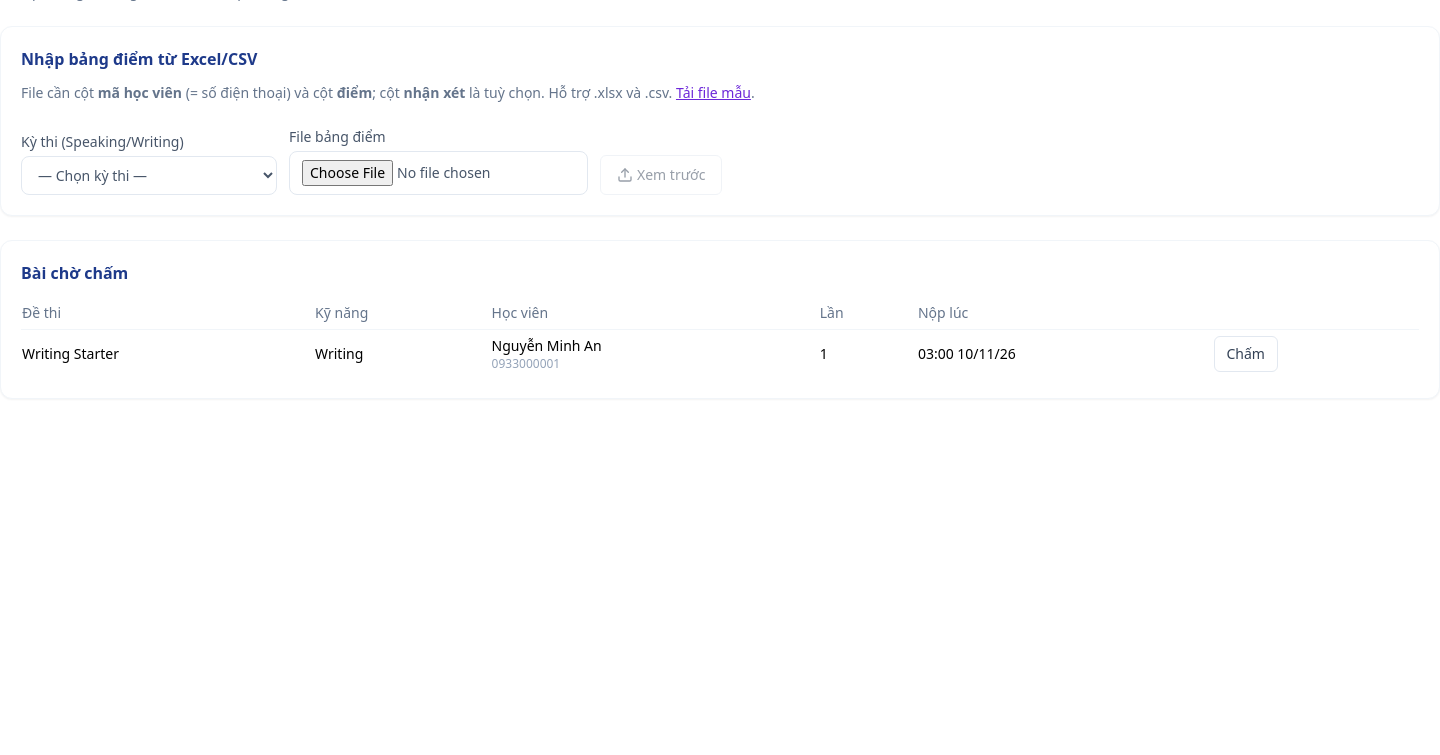
it: GradingPage › grades a queued attempt per question with feedback and empties the queue
Expected: the text "Nguyễn Minh An" is shown, [492,336,602,355]
Click the button "Chấm" at (1246, 354), box [1214,336,1278,372]
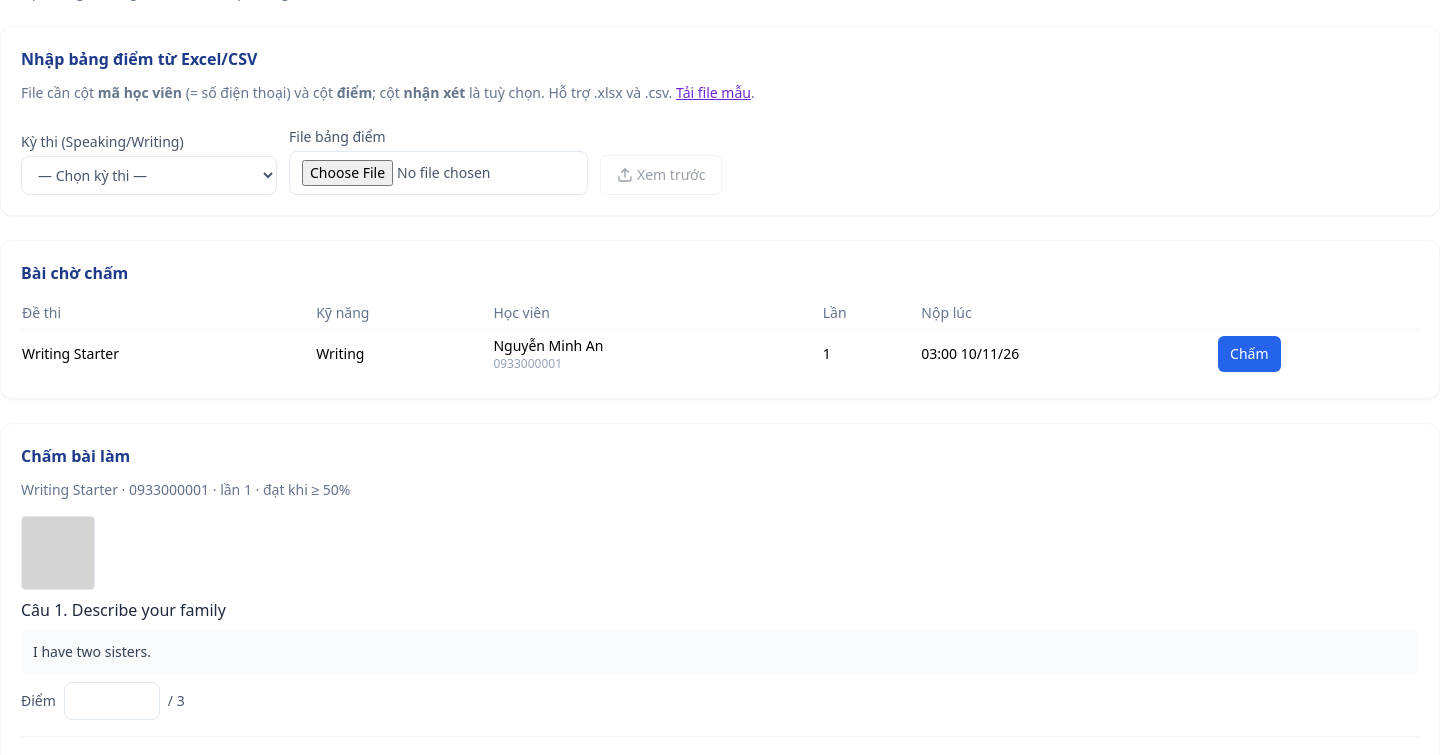
Expected: the text "I have two sisters." is shown, [21,630,1419,674]
Type "2" into the number field named "Điểm câu 1" at (112, 701), box [64,682,160,720]
(page scrolled)
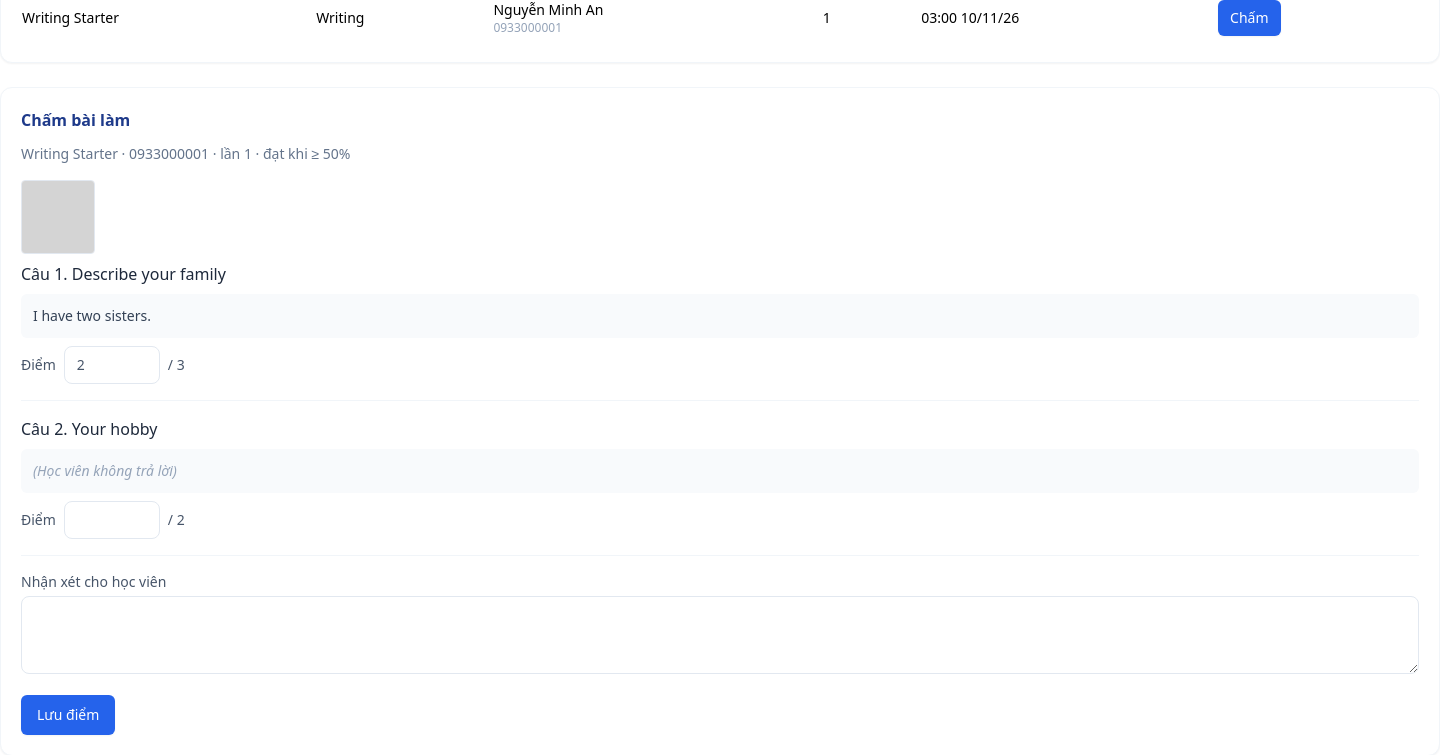
Type "0" into the number field named "Điểm câu 2" at (112, 520), box [64,501,160,539]
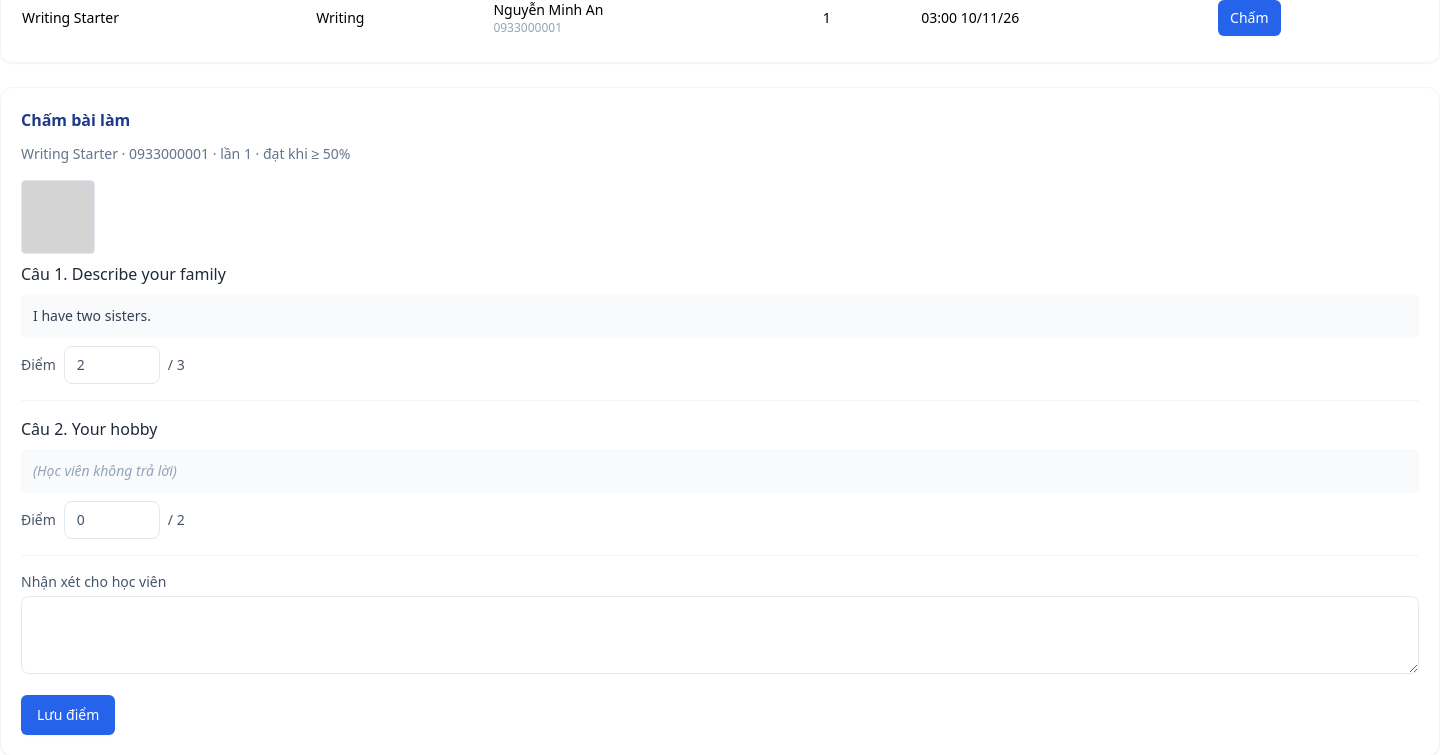
Type "Viet dai hon" into the text box labelled "Nhận xét cho học viên" at (720, 635), box [21,596,1419,674]
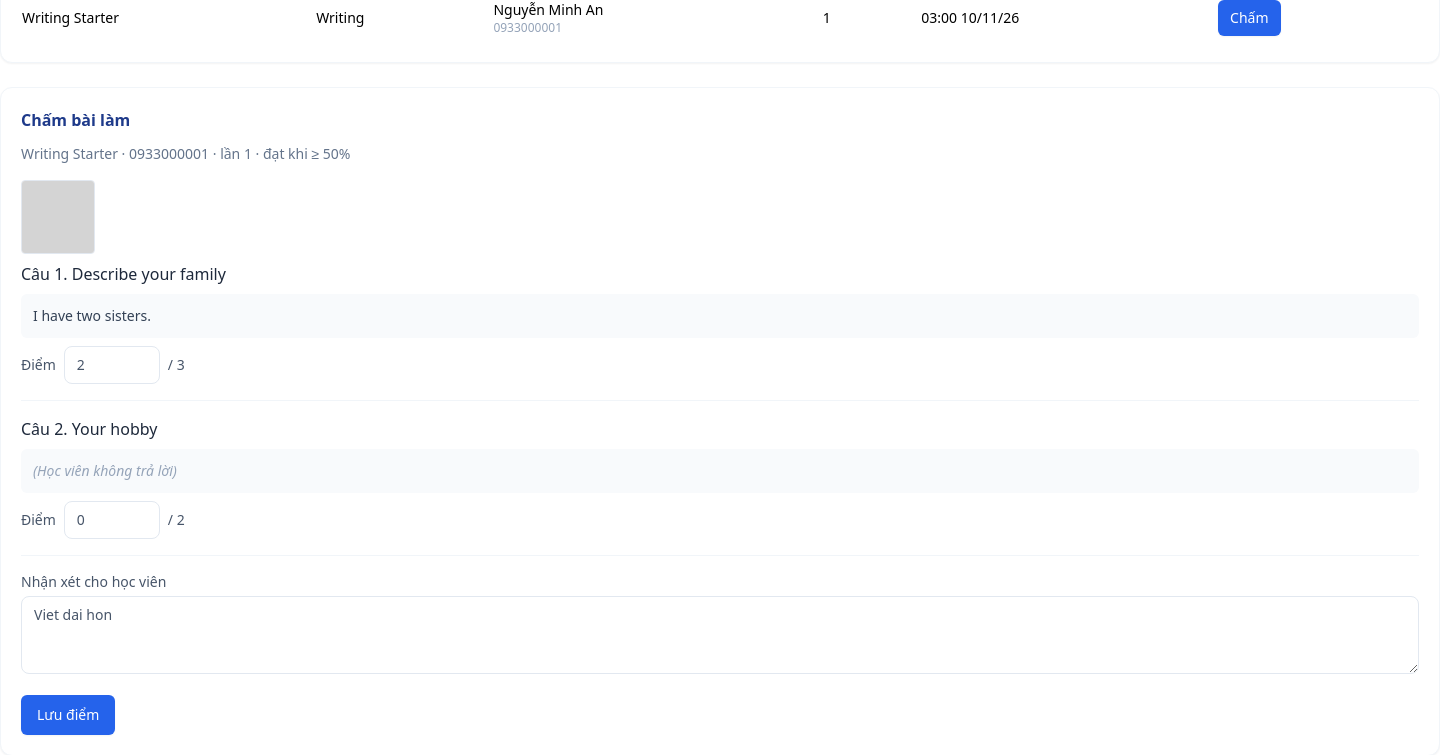
Click the button "Lưu điểm" at (68, 715), box [21,695,115,735]
(page scrolled)
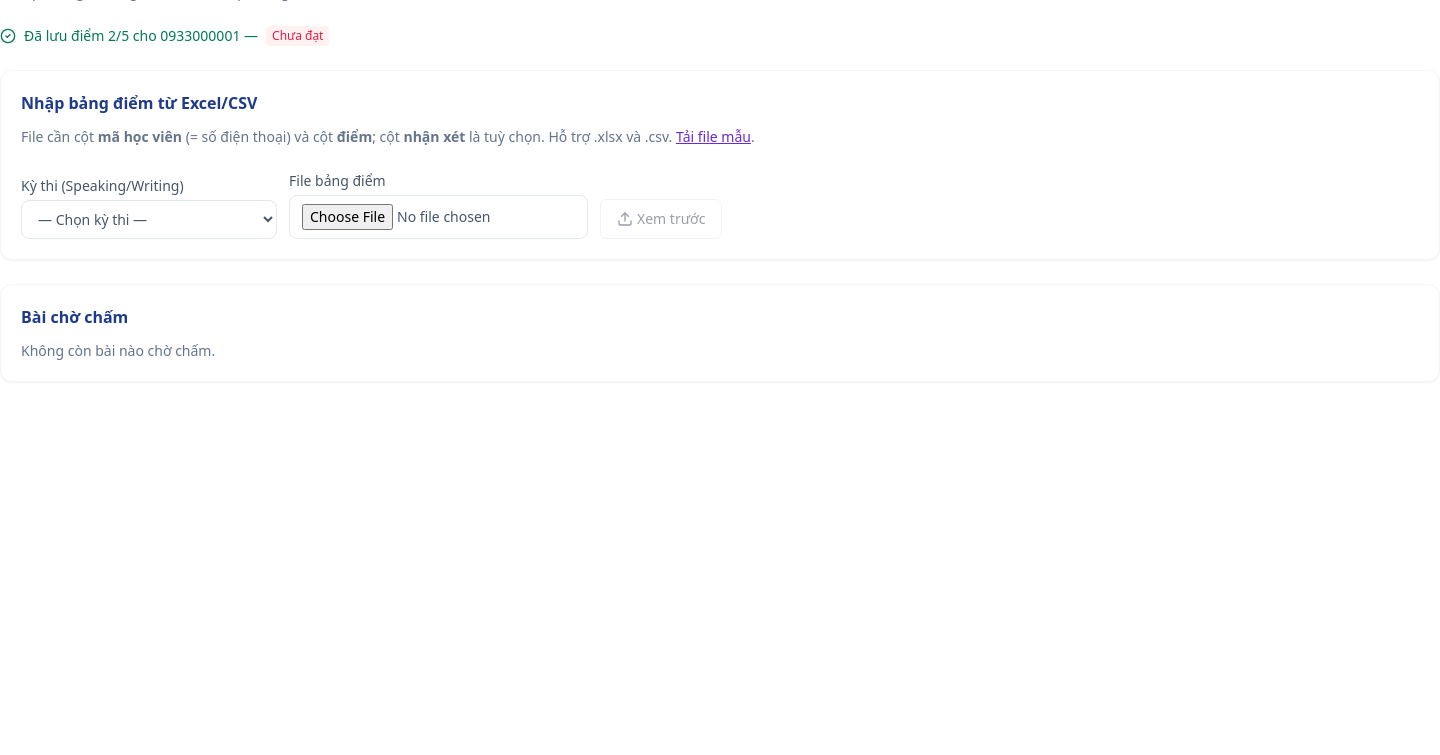
Expected: the text "Đã lưu điểm 2/5 cho 0933000001 — Chưa đạt" is shown, [0,26,330,46]
Expected: the text "Chưa đạt" is shown, [266,26,329,46]
Expected: the text "Không còn bài nào chờ chấm." is shown, [21,341,215,360]
